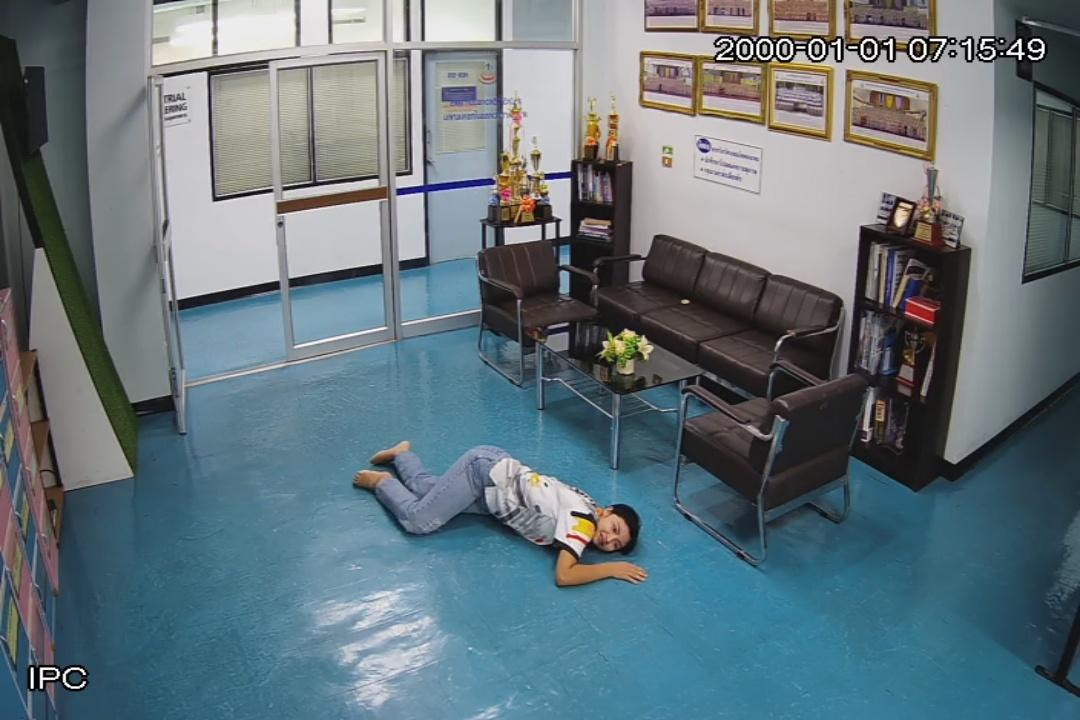fall: (356, 420, 664, 596)
